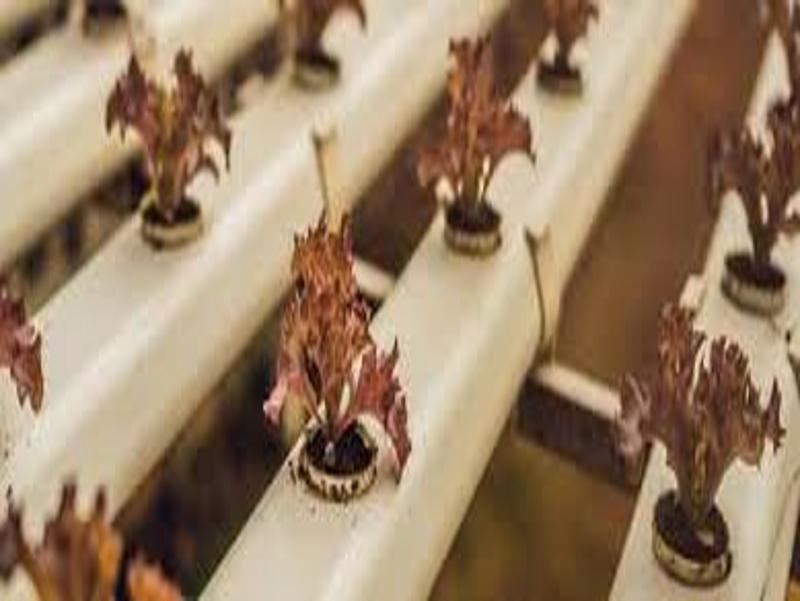red lettuce: (277, 209, 409, 479), (630, 305, 778, 516), (422, 35, 541, 214), (106, 53, 235, 210), (706, 103, 800, 261)
